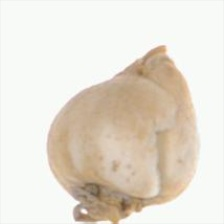L3: (129, 46, 175, 85)
L4: (47, 47, 199, 220)
